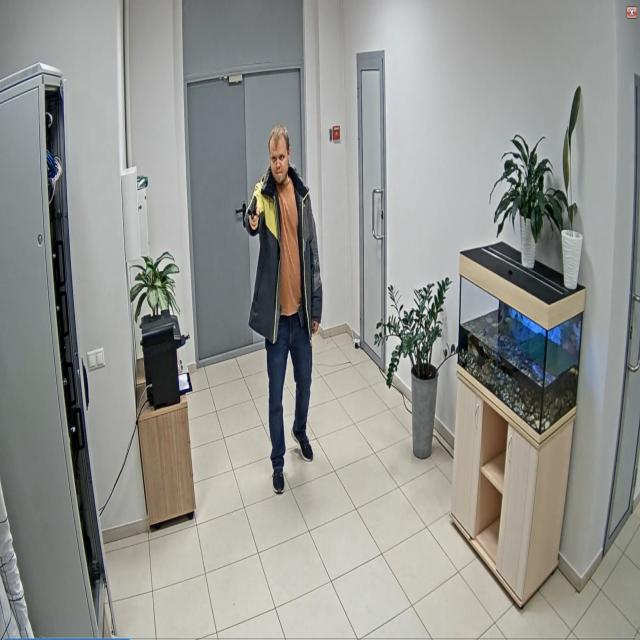-Gun: (247, 196, 257, 219)
